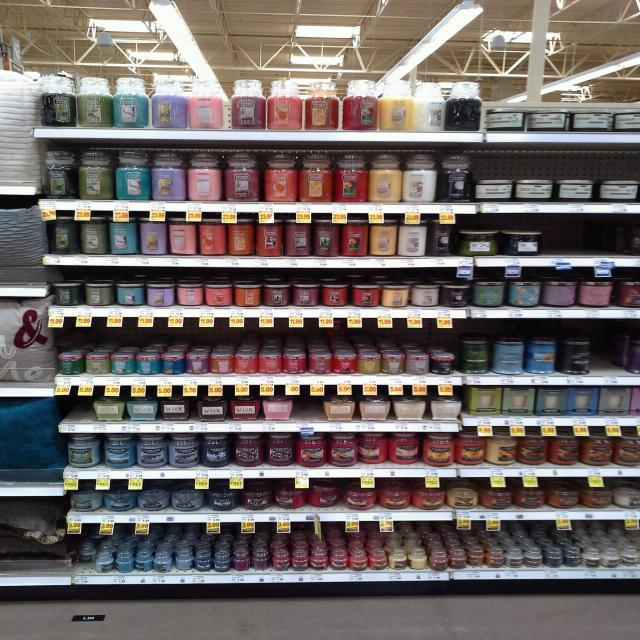void: (594, 322, 639, 386), (546, 221, 601, 271), (603, 217, 640, 265), (292, 392, 322, 433)
